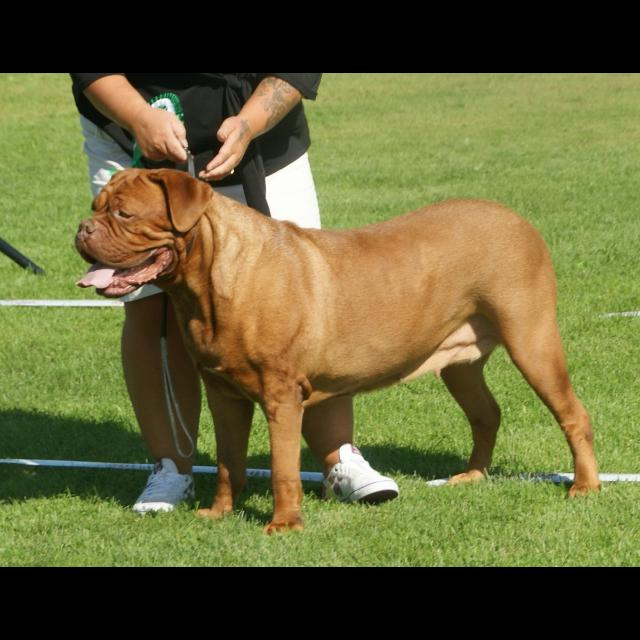dogue_de_bordeaux: (75, 168, 603, 538)
person: (71, 75, 401, 518)
